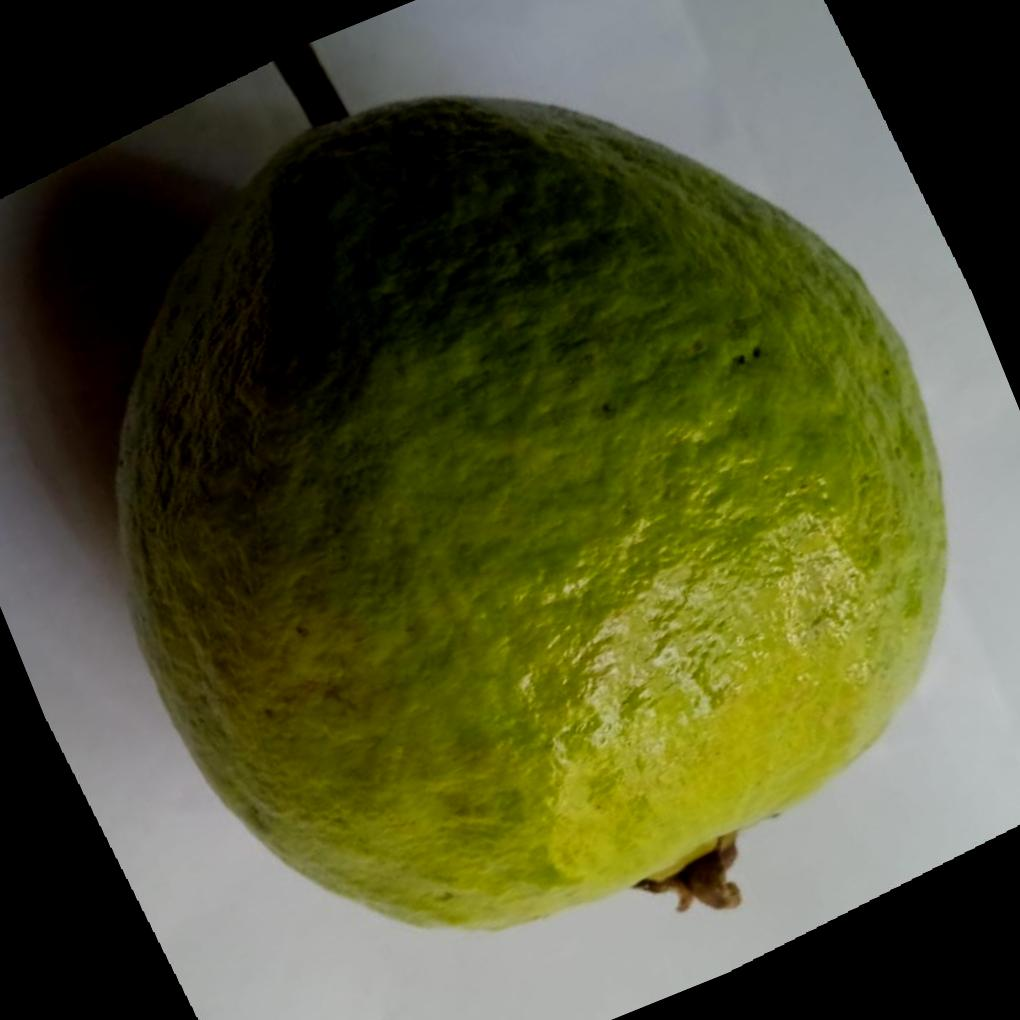FreshGuava: (110, 88, 948, 930)
